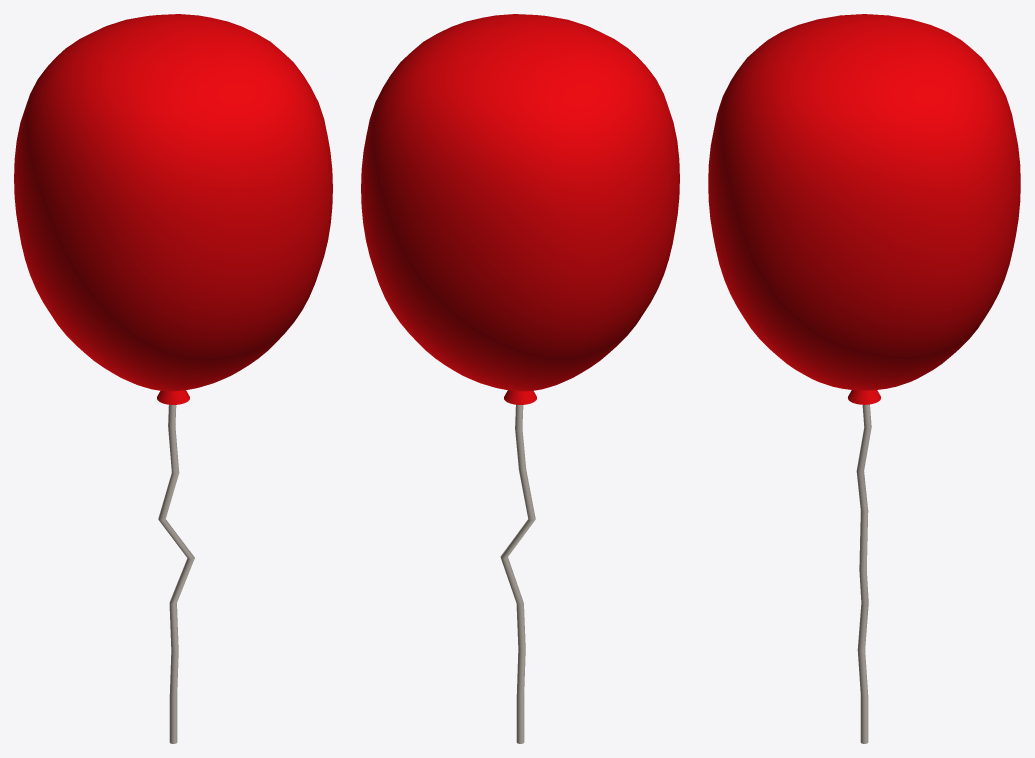
The model's file is baloon.fbx.
The picture shows the model from 3 angles, left to right: view 1: azimuth 30°, elevation 25°; view 2: azimuth 150°, elevation 25°; view 3: azimuth 270°, elevation 25°; orthographic projection.
Parts seen in each view (by area): view 1: Cube, Cylinder; view 2: Cube, Cylinder; view 3: Cube, Cylinder.
Part boxes in pixels (bbox=[...]): Cube: bbox=[14, 14, 332, 391]; Cylinder: bbox=[158, 404, 194, 743]; Cube: bbox=[361, 14, 679, 391]; Cylinder: bbox=[500, 404, 535, 743]; Cube: bbox=[708, 14, 1020, 390]; Cylinder: bbox=[856, 404, 871, 743].
Size of the model in its own units: 199 by 497 by 199.
